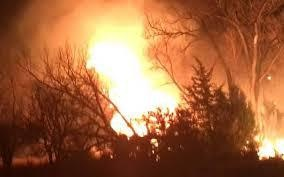fire: (84, 26, 185, 139), (253, 126, 284, 160)
